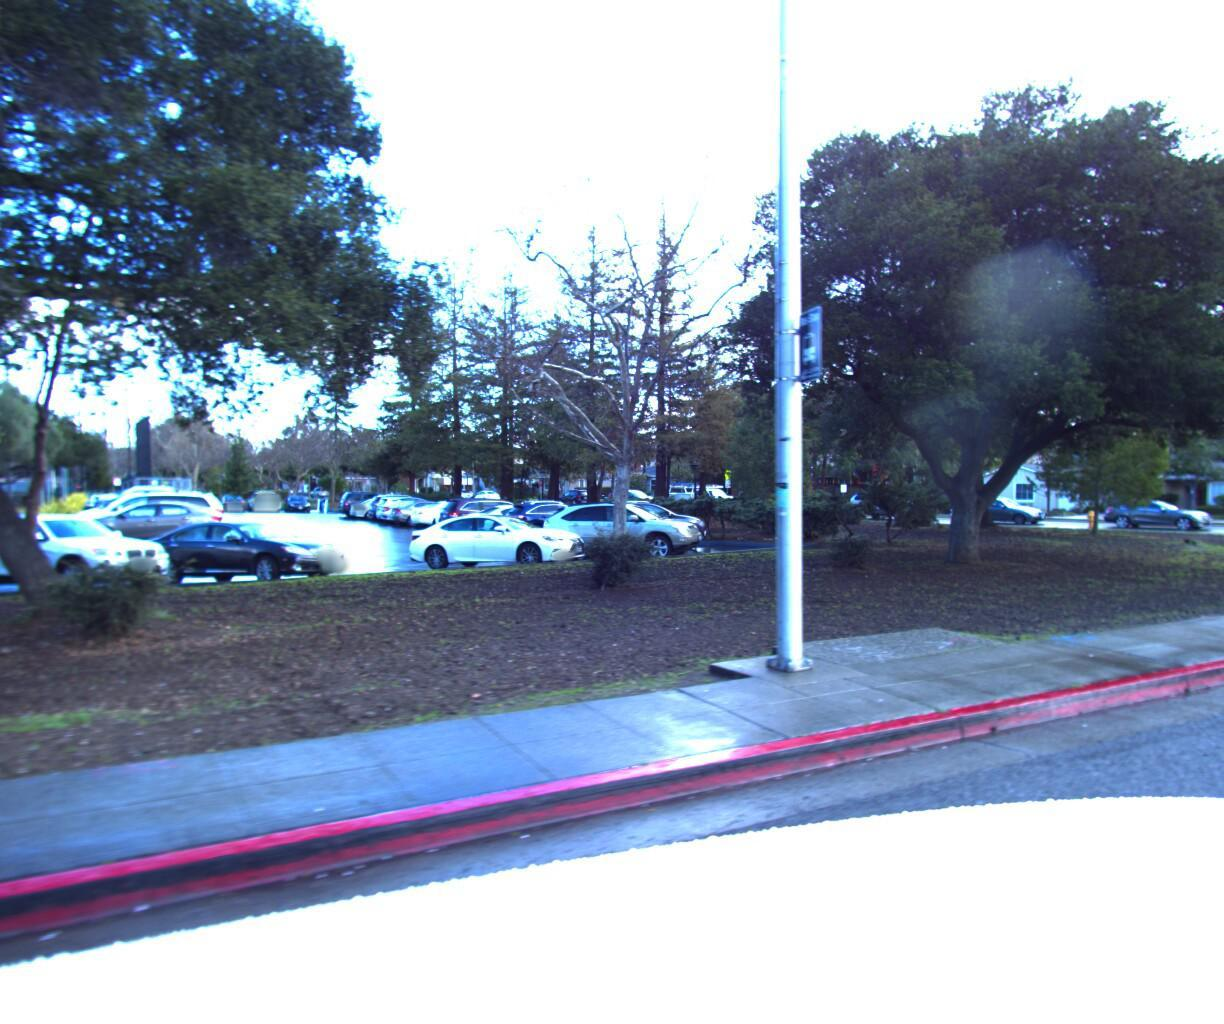car: (1098, 503, 1214, 533), (662, 486, 745, 516), (954, 502, 1048, 527), (553, 494, 593, 510)
